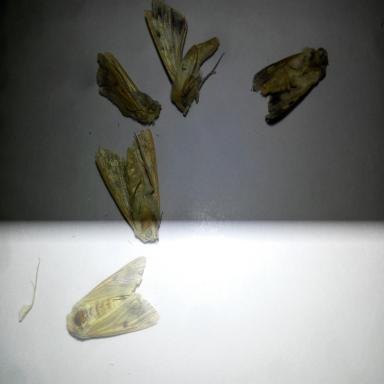abw: (142, 0, 227, 119), (92, 127, 170, 245), (65, 253, 162, 343), (249, 42, 331, 130), (92, 48, 164, 130)
